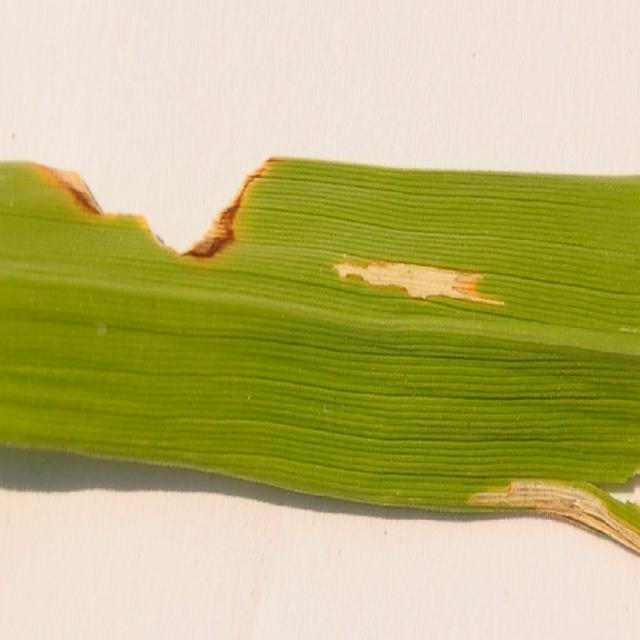leaf blight: (39, 150, 288, 270), (461, 450, 640, 562), (327, 236, 509, 324)
